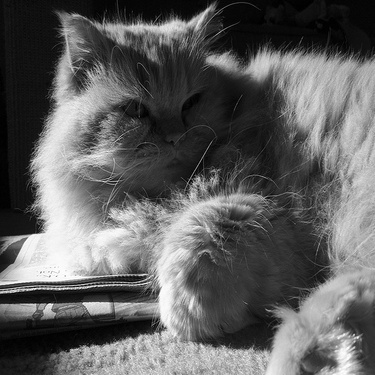cat: (32, 11, 359, 363)
